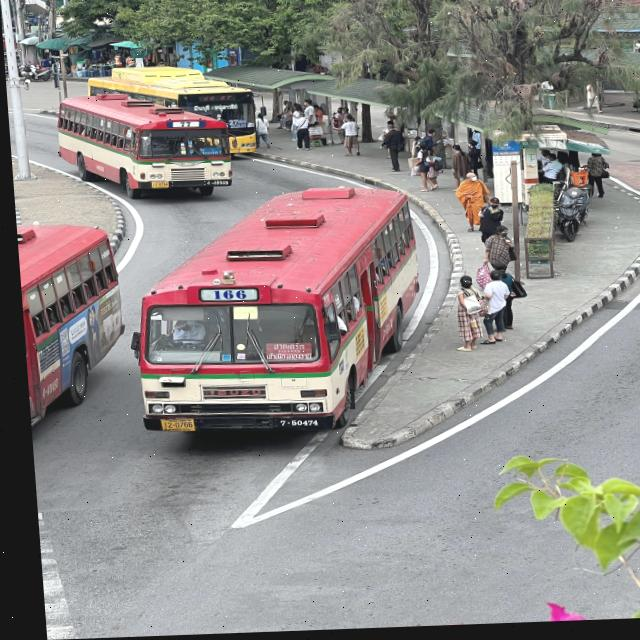BMTA-bus: (117, 184, 429, 440), (13, 217, 129, 441), (49, 90, 236, 207)
Bus-Line-Number: (194, 290, 257, 304), (167, 122, 202, 130)
Destination-Sign-Extra-Bus: (261, 343, 308, 366)
Destination-Sign-Normal: (193, 148, 220, 157)
